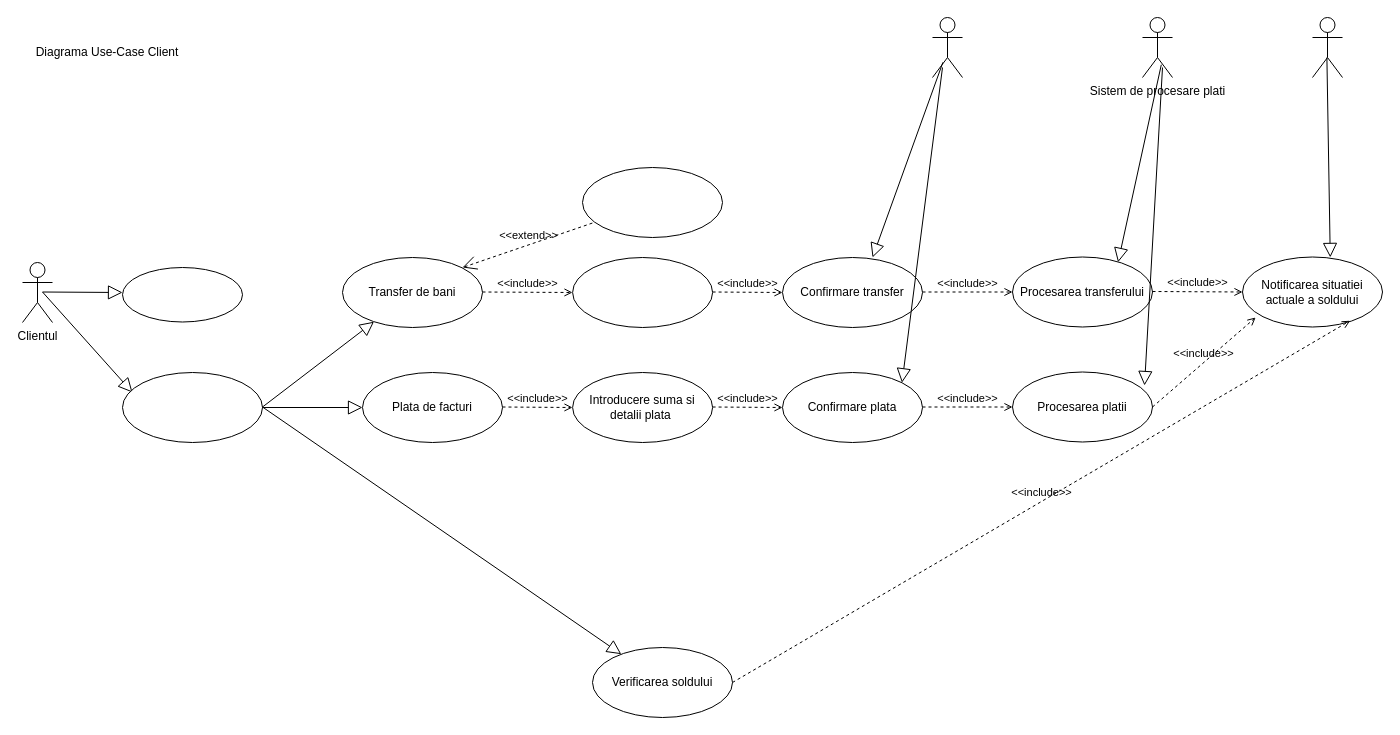
Image size: 1400x735. Some labels were removed from this diagram. The shapes that lost their labels are listed below. From the top down, each one's centre as x and y in pixels, then its label:
(947,47): Sistemul bancar
(1327,47): Serviciul de notificari
(652,202): Efectuare transfer de bani cu taxa de urgenta
(182,294): Autentificare in cont
(642,292): Introducerea detaliilor transferului
(192,407): Selectarea activitatii/optiunii dorite
